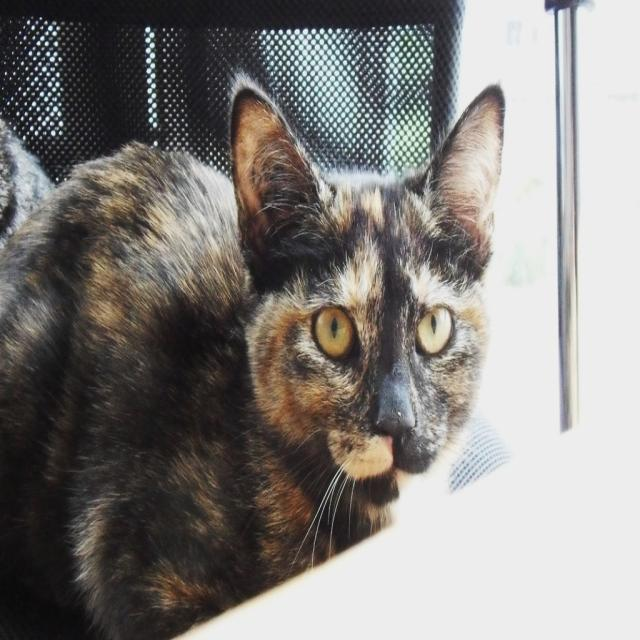Cat: (0, 74, 502, 638)
